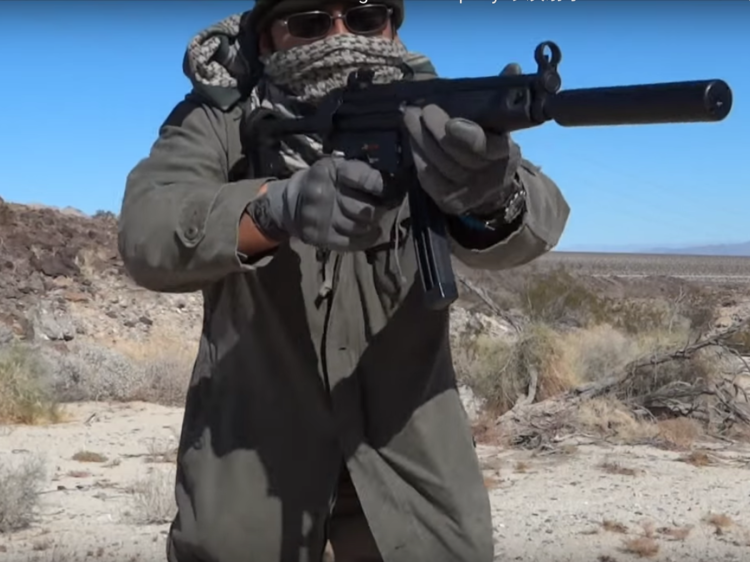Gun: (331, 49, 735, 159)
